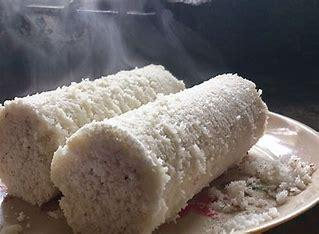Pittu: (6, 44, 289, 223)
